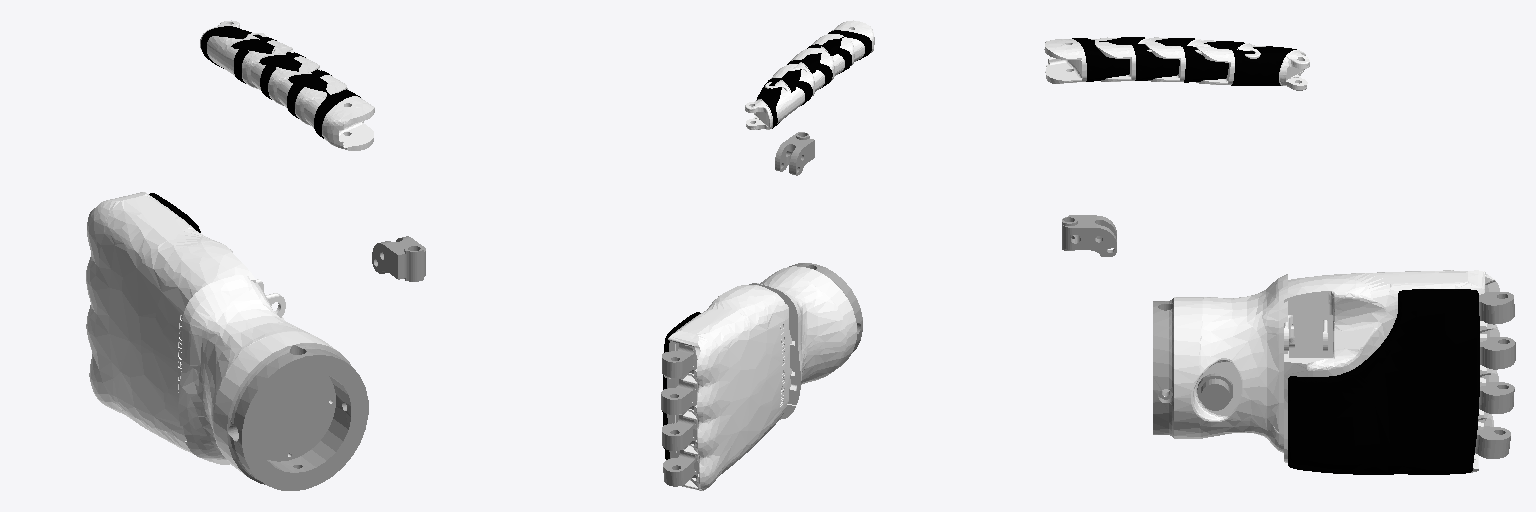
The robot description file, URDF, robot "inspire_hand_left":
<?xml version="1.0" encoding="utf-8"?>
<robot name="inspire_hand_left">
  <!--  joint limit reference: https://en.inspire-robots.com/-->
  <link name="base"/>
  <joint name="base_joint" type="fixed">
    <parent link="base"/>
    <child link="hand_base_link"/>
    <origin xyz="0 0 0" rpy="-1.5707963 0 3.14159"/>
  </joint>
  <link name="hand_base_link">
    <inertial>
      <origin xyz="-0.0025264 -0.066047 -0.0019598" rpy="0 0 0"/>
      <mass value="0.14143"/>
      <inertia ixx="0.00012281" ixy="2.1711E-06" ixz="1.7709E-06" iyy="8.3832E-05" iyz="-1.6551E-06" izz="7.6663E-05"/>
    </inertial>
    <visual>
      <origin xyz="0 0 0" rpy="0 0 0"/>
      <geometry>
        <mesh filename="package://inspire_description/meshes/visual_dae/left_base_link.dae"/>
      </geometry>
    </visual>
    <collision>
      <origin xyz="0 -0.0136 0" rpy="1.57079 0 0"/>
      <geometry>
        <cylinder length="0.0278" radius="0.028"/>
      </geometry>
    </collision>
    <collision>
      <origin xyz="-0.0032 -0.038 0" rpy="0 0 0"/>
      <geometry>
        <box size="0.0391 0.0202 0.0574"/>
      </geometry>
    </collision>
    <collision>
      <origin xyz="-0.0032 -0.0682 0" rpy="0 0 0"/>
      <geometry>
        <box size="0.0391 0.04 0.0814"/>
      </geometry>
    </collision>
    <collision>
      <origin xyz="0 -0.1081 0" rpy="0 0 0"/>
      <geometry>
        <box size="0.0322 0.04 0.0814"/>
      </geometry>
    </collision>
    <collision>
      <origin xyz="-0.0016 -0.1340 -0.0309" rpy="0 0 0"/>
      <geometry>
        <box size="0.0125 0.0111 0.0089"/>
      </geometry>
    </collision>
    <collision>
      <origin xyz="-0.0016 -0.1340 -0.0118" rpy="0 0 0"/>
      <geometry>
        <box size="0.0125 0.0111 0.0089"/>
      </geometry>
    </collision>
    <collision>
      <origin xyz="-0.0016 -0.1340 0.0070" rpy="0 0 0"/>
      <geometry>
        <box size="0.0125 0.0111 0.0089"/>
      </geometry>
    </collision>
    <collision>
      <origin xyz="-0.0016 -0.1340 0.0262" rpy="0 0 0"/>
      <geometry>
        <box size="0.0125 0.0111 0.0089"/>
      </geometry>
    </collision>
  </link>
  <link name="thumb_proximal_base">
    <inertial>
      <origin xyz="0.0048817 0.0009382 -0.00722" rpy="0 0 0"/>
      <mass value="0.0018869"/>
      <inertia ixx="5.816E-08" ixy="-1.4539E-08" ixz="-4.491E-09" iyy="7.9161E-08" iyz="-1.8727E-09" izz="6.7433E-08"/>
    </inertial>
    <visual>
      <origin xyz="0 0 0" rpy="0 0 0"/>
      <geometry>
        <mesh filename="package://inspire_description/meshes/visual_dae/left_thumb_proximal_base.dae"/>
      </geometry>
    </visual>
    <collision>
      <origin xyz="0 0 0" rpy="0 0 0"/>
      <geometry>
        <mesh filename="package://inspire_description/meshes/collision/left_thumb_proximal_base.obj"/>
      </geometry>
    </collision>
  </link>
  <joint name="thumb_proximal_yaw_joint" type="revolute">
    <origin xyz="-0.01696 -0.0691 0.02045" rpy="1.5708 -1.5708 0"/>
    <parent link="hand_base_link"/>
    <child link="thumb_proximal_base"/>
    <axis xyz="0 0 1"/>
    <limit lower="0" upper="1.308" effort="1" velocity="0.5"/>
  </joint>
  <link name="thumb_proximal">
    <inertial>
      <origin xyz="0.021932 -0.012785 -0.0080386" rpy="0 0 0"/>
      <mass value="0.0066075"/>
      <inertia ixx="1.5686E-06" ixy="7.8296E-07" ixz="8.9143E-10" iyy="1.7353E-06" iyz="1.0191E-09" izz="2.786E-06"/>
    </inertial>
    <visual>
      <origin xyz="0 0 0" rpy="0 0 0"/>
      <geometry>
        <mesh filename="package://inspire_description/meshes/visual_dae/left_thumb_proximal.dae"/>
      </geometry>
    </visual>
    <collision>
      <origin xyz="0 0 0" rpy="0 0 0"/>
      <geometry>
        <mesh filename="package://inspire_description/meshes/collision/left_thumb_proximal.obj"/>
      </geometry>
    </collision>
  </link>
  <joint name="thumb_proximal_pitch_joint" type="revolute">
    <origin xyz="0.0099867 0.0098242 -0.0089" rpy="-1.5708 0 0.16939"/>
    <parent link="thumb_proximal_base"/>
    <child link="thumb_proximal"/>
    <axis xyz="0 0 -1"/>
    <limit lower="0" upper="0.6" effort="1" velocity="0.5"/>
  </joint>
  <link name="thumb_intermediate">
    <inertial>
      <origin xyz="0.0095544 0.0016282 -0.0071997" rpy="0 0 0"/>
      <mass value="0.0037847"/>
      <inertia ixx="3.6981E-07" ixy="9.8581E-08" ixz="-4.7469E-12" iyy="3.2394E-07" iyz="-1.0939E-12" izz="4.6531E-07"/>
    </inertial>
    <visual>
      <origin xyz="0 0 0" rpy="0 0 0"/>
      <geometry>
        <mesh filename="package://inspire_description/meshes/visual_dae/left_thumb_intermediate.dae"/>
      </geometry>
    </visual>
    <collision>
      <origin xyz="0 0 0" rpy="0 0 0"/>
      <geometry>
        <mesh filename="package://inspire_description/meshes/collision/left_thumb_intermediate.obj"/>
      </geometry>
    </collision>
  </link>
  <joint name="thumb_intermediate_joint" type="revolute">
    <origin xyz="0.04407 -0.034553 -0.0008" rpy="0 0 0"/>
    <parent link="thumb_proximal"/>
    <child link="thumb_intermediate"/>
    <axis xyz="0 0 -1"/>
    <limit lower="0" upper="0.8" effort="1" velocity="0.5"/>
    <mimic joint="thumb_proximal_pitch_joint" multiplier="1.334" offset="0"/>
  </joint>
  <link name="thumb_distal">
    <inertial>
      <origin xyz="0.0092888 -0.0049529 -0.0060033" rpy="0 0 0"/>
      <mass value="0.0033441"/>
      <inertia ixx="1.3632E-07" ixy="5.6788E-08" ixz="-9.2764E-11" iyy="1.4052E-07" iyz="1.2283E-10" izz="2.0026E-07"/>
    </inertial>
    <visual>
      <origin xyz="0 0 0" rpy="0 0 0"/>
      <geometry>
        <mesh filename="package://inspire_description/meshes/visual_dae/left_thumb_distal.dae"/>
      </geometry>
    </visual>
    <collision>
      <origin xyz="0 0 0" rpy="0 0 0"/>
      <geometry>
        <mesh filename="package://inspire_description/meshes/collision/left_thumb_distal.obj" scale="1 1 1"/>
      </geometry>
    </collision>
  </link>
  <joint name="thumb_distal_joint" type="revolute">
    <origin xyz="0.020248 -0.010156 -0.0012" rpy="0 0 0"/>
    <parent link="thumb_intermediate"/>
    <child link="thumb_distal"/>
    <axis xyz="0 0 -1"/>
    <limit lower="0" upper="0.4" effort="1" velocity="0.5"/>
    <mimic joint="thumb_proximal_pitch_joint" multiplier="0.667" offset="0"/>
  </joint>
  <link name="index_proximal">
    <inertial>
      <origin xyz="0.0012259 -0.011942 -0.0060001" rpy="0 0 0"/>
      <mass value="0.0042403"/>
      <inertia ixx="6.6232E-07" ixy="1.5775E-08" ixz="1.8515E-12" iyy="2.1146E-07" iyz="5.0828E-12" izz="6.9398E-07"/>
    </inertial>
    <visual>
      <origin xyz="0 0 0" rpy="0 0 0"/>
      <geometry>
        <mesh filename="package://inspire_description/meshes/visual_dae/left_index_proximal.dae"/>
      </geometry>
    </visual>
    <collision>
      <origin xyz="0 0 0" rpy="0 0 0"/>
      <geometry>
        <mesh filename="package://inspire_description/meshes/collision/left_index_proximal.obj"/>
      </geometry>
    </collision>
  </link>
  <joint name="index_proximal_joint" type="revolute">
    <origin xyz="0.00028533 -0.13653 0.032268" rpy="-0.034907 0 0"/>
    <parent link="hand_base_link"/>
    <child link="index_proximal"/>
    <axis xyz="0 0 -1"/>
    <limit lower="0" upper="1.47" effort="1" velocity="0.5"/>
  </joint>
  <link name="index_intermediate">
    <inertial>
      <origin xyz="0.0019697 -0.019589 -0.005" rpy="0 0 0"/>
      <mass value="0.0045683"/>
      <inertia ixx="7.6111E-07" ixy="-8.7637E-08" ixz="-3.7751E-13" iyy="9.6076E-08" iyz="-9.9444E-13" izz="7.8179E-07"/>
    </inertial>
    <visual>
      <origin xyz="0 0 0" rpy="0 0 0"/>
      <geometry>
        <mesh filename="package://inspire_description/meshes/visual_dae/left_index_intermediate.dae"/>
      </geometry>
    </visual>
    <collision>
      <origin xyz="0 0 0" rpy="0 0 0"/>
      <geometry>
        <mesh filename="package://inspire_description/meshes/collision/left_index_intermediate.obj"/>
      </geometry>
    </collision>
  </link>
  <joint name="index_intermediate_joint" type="revolute">
    <origin xyz="-0.0026138 -0.032026 -0.001" rpy="0 0 0"/>
    <parent link="index_proximal"/>
    <child link="index_intermediate"/>
    <axis xyz="0 0 -1"/>
    <limit lower="-0.04545" upper="1.56" effort="1" velocity="0.5"/>
    <mimic joint="index_proximal_joint" multiplier="1.06399" offset="-0.04545"/>
  </joint>
  <link name="middle_proximal">
    <inertial>
      <origin xyz="0.001297 -0.011934 -0.0060001" rpy="0 0 0"/>
      <mass value="0.0042403"/>
      <inertia ixx="6.6211E-07" ixy="1.8461E-08" ixz="1.8002E-12" iyy="2.1167E-07" iyz="6.6808E-12" izz="6.9397E-07"/>
    </inertial>
    <visual>
      <origin xyz="0 0 0" rpy="0 0 0"/>
      <geometry>
        <mesh filename="package://inspire_description/meshes/visual_dae/left_index_proximal.dae"/>
      </geometry>
    </visual>
    <collision>
      <origin xyz="0 0 0" rpy="0 0 0"/>
      <geometry>
        <mesh filename="package://inspire_description/meshes/collision/left_index_proximal.obj"/>
      </geometry>
    </collision>
  </link>
  <joint name="middle_proximal_joint" type="revolute">
    <origin xyz="0.00028533 -0.1371 0.01295" rpy="0 0 0"/>
    <parent link="hand_base_link"/>
    <child link="middle_proximal"/>
    <axis xyz="0 0 -1"/>
    <limit lower="0" upper="1.47" effort="1" velocity="0.5"/>
  </joint>
  <link name="middle_intermediate">
    <inertial>
      <origin xyz="0.001921 -0.020796 -0.005" rpy="0 0 0"/>
      <mass value="0.0050396"/>
      <inertia ixx="9.5822E-07" ixy="-1.1425E-07" ixz="-2.4791E-12" iyy="1.0646E-07" iyz="-5.9173E-12" izz="9.8384E-07"/>
    </inertial>
    <visual>
      <origin xyz="0 0 0" rpy="0 0 0"/>
      <geometry>
        <mesh filename="package://inspire_description/meshes/visual_dae/left_middle_intermediate.dae"/>
      </geometry>
    </visual>
    <collision>
      <origin xyz="0 0 0" rpy="0 0 0"/>
      <geometry>
        <mesh filename="package://inspire_description/meshes/collision/left_middle_intermediate.obj"/>
      </geometry>
    </collision>
  </link>
  <joint name="middle_intermediate_joint" type="revolute">
    <origin xyz="-0.0024229 -0.032041 -0.001" rpy="0 0 0"/>
    <parent link="middle_proximal"/>
    <child link="middle_intermediate"/>
    <axis xyz="0 0 -1"/>
    <limit lower="-0.04545" upper="1.56" effort="1" velocity="0.5"/>
    <mimic joint="middle_proximal_joint" multiplier="1.06399" offset="-0.04545"/>
  </joint>
  <link name="ring_proximal">
    <inertial>
      <origin xyz="0.001297 -0.011934 -0.0060002" rpy="0 0 0"/>
      <mass value="0.0042403"/>
      <inertia ixx="6.6211E-07" ixy="1.8461E-08" ixz="1.5793E-12" iyy="2.1167E-07" iyz="6.6868E-12" izz="6.9397E-07"/>
    </inertial>
    <visual>
      <origin xyz="0 0 0" rpy="0 0 0"/>
      <geometry>
        <mesh filename="package://inspire_description/meshes/visual_dae/left_index_proximal.dae"/>
      </geometry>
    </visual>
    <collision>
      <origin xyz="0 0 0" rpy="0 0 0"/>
      <geometry>
        <mesh filename="package://inspire_description/meshes/collision/left_index_proximal.obj"/>
      </geometry>
    </collision>
  </link>
  <joint name="ring_proximal_joint" type="revolute">
    <origin xyz="0.00028533 -0.13691 -0.0062872" rpy="0.05236 0 0"/>
    <parent link="hand_base_link"/>
    <child link="ring_proximal"/>
    <axis xyz="0 0 -1"/>
    <limit lower="0" upper="1.47" effort="1" velocity="0.5"/>
  </joint>
  <link name="ring_intermediate">
    <inertial>
      <origin xyz="0.0021753 -0.019567 -0.005" rpy="0 0 0"/>
      <mass value="0.0045683"/>
      <inertia ixx="7.6286E-07" ixy="-8.0635E-08" ixz="-6.1562E-13" iyy="9.431E-08" iyz="-5.8619E-13" izz="7.8177E-07"/>
    </inertial>
    <visual>
      <origin xyz="0 0 0" rpy="0 0 0"/>
      <geometry>
        <mesh filename="package://inspire_description/meshes/visual_dae/left_index_intermediate.dae"/>
      </geometry>
    </visual>
    <collision>
      <origin xyz="0 0 0" rpy="0 0 0"/>
      <geometry>
        <mesh filename="package://inspire_description/meshes/collision/left_index_intermediate.obj"/>
      </geometry>
    </collision>
  </link>
  <joint name="ring_intermediate_joint" type="revolute">
    <origin xyz="-0.0024229 -0.032041 -0.001" rpy="0 0 0"/>
    <parent link="ring_proximal"/>
    <child link="ring_intermediate"/>
    <axis xyz="0 0 -1"/>
    <limit lower="-0.04545" upper="1.56" effort="1" velocity="0.5"/>
    <mimic joint="ring_proximal_joint" multiplier="1.06399" offset="-0.04545"/>
  </joint>
  <link name="pinky_proximal">
    <inertial>
      <origin xyz="0.001297 -0.011934 -0.0060001" rpy="0 0 0"/>
      <mass value="0.0042403"/>
      <inertia ixx="6.6211E-07" ixy="1.8461E-08" ixz="1.6907E-12" iyy="2.1167E-07" iyz="6.9334E-12" izz="6.9397E-07"/>
    </inertial>
    <visual>
      <origin xyz="0 0 0" rpy="0 0 0"/>
      <geometry>
        <mesh filename="package://inspire_description/meshes/visual_dae/left_index_proximal.dae"/>
      </geometry>
    </visual>
    <collision>
      <origin xyz="0 0 0" rpy="0 0 0"/>
      <geometry>
        <mesh filename="package://inspire_description/meshes/collision/left_index_proximal.obj"/>
      </geometry>
    </collision>
  </link>
  <joint name="pinky_proximal_joint" type="revolute">
    <origin xyz="0.00028533 -0.13571 -0.025488" rpy="0.10472 0 0"/>
    <parent link="hand_base_link"/>
    <child link="pinky_proximal"/>
    <axis xyz="0 0 -1"/>
    <limit lower="0" upper="1.47" effort="1" velocity="0.5"/>
  </joint>
  <link name="pinky_intermediate">
    <inertial>
      <origin xyz="0.0024748 -0.016203 -0.0050031" rpy="0 0 0"/>
      <mass value="0.0035996"/>
      <inertia ixx="4.3913E-07" ixy="-4.1418E-08" ixz="3.7168E-11" iyy="7.0247E-08" iyz="-5.8613E-11" izz="4.4867E-07"/>
    </inertial>
    <visual>
      <origin xyz="0 0 0" rpy="0 0 0"/>
      <geometry>
        <mesh filename="package://inspire_description/meshes/visual_dae/left_pinky_intermediate.dae"/>
      </geometry>
    </visual>
    <collision>
      <origin xyz="0 0 0" rpy="0 0 0"/>
      <geometry>
        <mesh filename="package://inspire_description/meshes/collision/left_pinky_intermediate.obj"/>
      </geometry>
    </collision>
  </link>
  <joint name="pinky_intermediate_joint" type="revolute">
    <origin xyz="-0.0024229 -0.032041 -0.001" rpy="0 0 0"/>
    <parent link="pinky_proximal"/>
    <child link="pinky_intermediate"/>
    <axis xyz="0 0 -1"/>
    <limit lower="-0.04545" upper="1.56" effort="1" velocity="0.5"/>
    <mimic joint="pinky_proximal_joint" multiplier="1.06399" offset="-0.04545"/>
  </joint>

  <link name='thumb_tip'/>
  <joint name="thumb_tip_joint" type="fixed">
    <origin xyz="0.0202 -0.0140 -0.006" rpy="0 0 0"/>
    <parent link="thumb_distal"/>
    <child link="thumb_tip"/>
  </joint>
  <link name='index_tip'/>
  <joint name="index_tip_joint" type="fixed">
    <origin xyz="-0.0008 -0.045 -0.005" rpy="0 0 0"/>
    <parent link="index_intermediate"/>
    <child link="index_tip"/>
  </joint>
  <link name='middle_tip'/>
  <joint name="middle_tip_joint" type="fixed">
    <origin xyz="-0.001 -0.048 -0.005" rpy="0 0 0"/>
    <parent link="middle_intermediate"/>
    <child link="middle_tip"/>
  </joint>
  <link name='ring_tip'/>
  <joint name="ring_tip_joint" type="fixed">
    <origin xyz="-0.0008 -0.045 -0.005" rpy="0 0 0"/>
    <parent link="ring_intermediate"/>
    <child link="ring_tip"/>
  </joint>
  <link name='pinky_tip'/>
  <joint name="pinky_tip_joint" type="fixed">
    <origin xyz="-0.0008 -0.037 -0.005" rpy="0 0 0"/>
    <parent link="pinky_intermediate"/>
    <child link="pinky_tip"/>
  </joint>
</robot>

--- What the picture shows (computed from the rendered views, not written in the file) ---
Views: 3 orthographic renders of the robot side by side, from view 1: azimuth 30°, elevation 25°; view 2: azimuth 150°, elevation 25°; view 3: azimuth 270°, elevation 25°.
Robot: inspire_hand_left — 19 links, 18 joints (12 revolute, 6 fixed); root link base; default pose: all joints at 0.
Visible links, largest first — view 1: hand_base_link, index_proximal, pinky_proximal, middle_proximal, thumb_proximal_base, ring_proximal; view 2: hand_base_link, pinky_proximal, index_proximal, thumb_proximal_base, ring_proximal, middle_proximal; view 3: hand_base_link, pinky_proximal, index_proximal, middle_proximal, ring_proximal, thumb_proximal_base.
Link boxes in pixels (x1,y1,x2,y2): hand_base_link: [86, 192, 368, 490]; index_proximal: [288, 68, 374, 150]; pinky_proximal: [200, 20, 292, 88]; middle_proximal: [259, 47, 347, 125]; thumb_proximal_base: [372, 236, 425, 281]; ring_proximal: [231, 33, 319, 105]; hand_base_link: [661, 263, 862, 490]; pinky_proximal: [745, 64, 814, 129]; index_proximal: [819, 20, 874, 61]; thumb_proximal_base: [775, 132, 814, 175]; ring_proximal: [765, 48, 834, 92]; middle_proximal: [786, 34, 854, 75]; hand_base_link: [1153, 270, 1515, 474]; pinky_proximal: [1195, 40, 1309, 90]; index_proximal: [1044, 37, 1151, 83]; middle_proximal: [1095, 37, 1209, 81]; ring_proximal: [1145, 37, 1260, 82]; thumb_proximal_base: [1062, 215, 1116, 256].
Size in the robot's own frame: 0.0582 by 0.1817 by 0.1812 metres.
Meshes: 9 distinct files referenced, 6 mesh visuals loaded (3 Collada DAE); not drawn: 7 (reference not matched to a file when rendering).